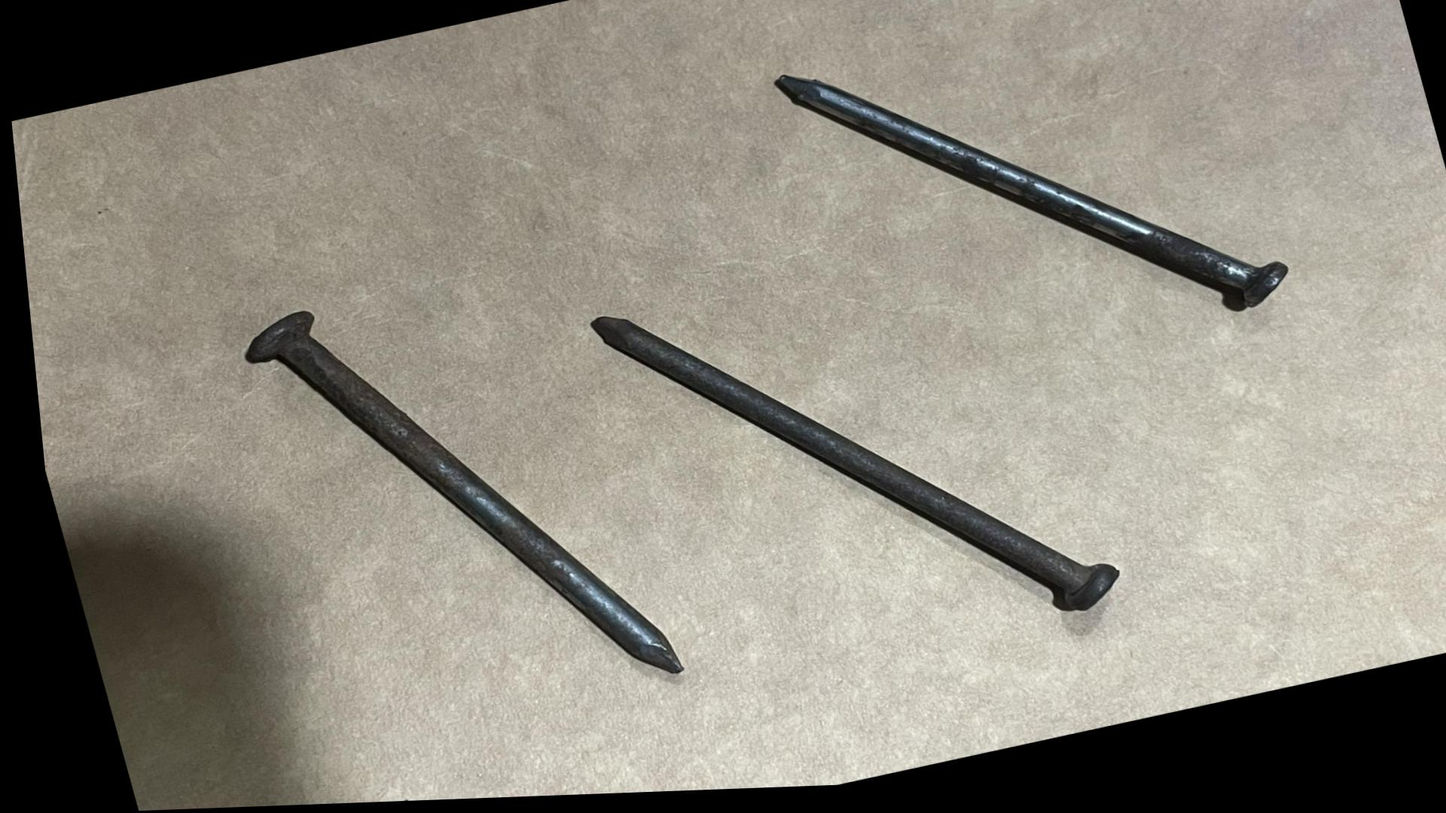nail: (533, 168, 1181, 740), (715, 0, 1364, 441), (205, 229, 709, 765)
